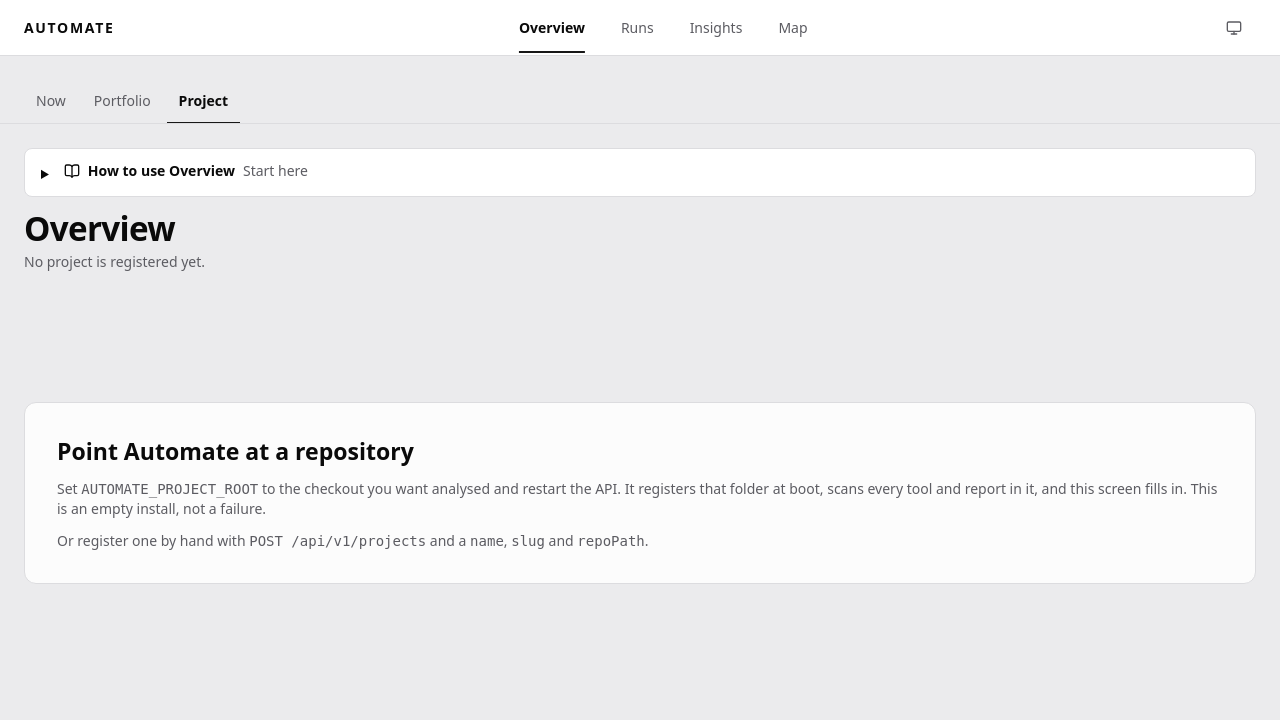
Test case: router › navigates from the dashboard to the runs list in one click
Expected: the heading "Overview" is shown, top-left (24, 206), bottom-right (175, 251)
Step 1. Click the link "Runs" → (637, 27), box top-left (621, 18), bottom-right (654, 36)
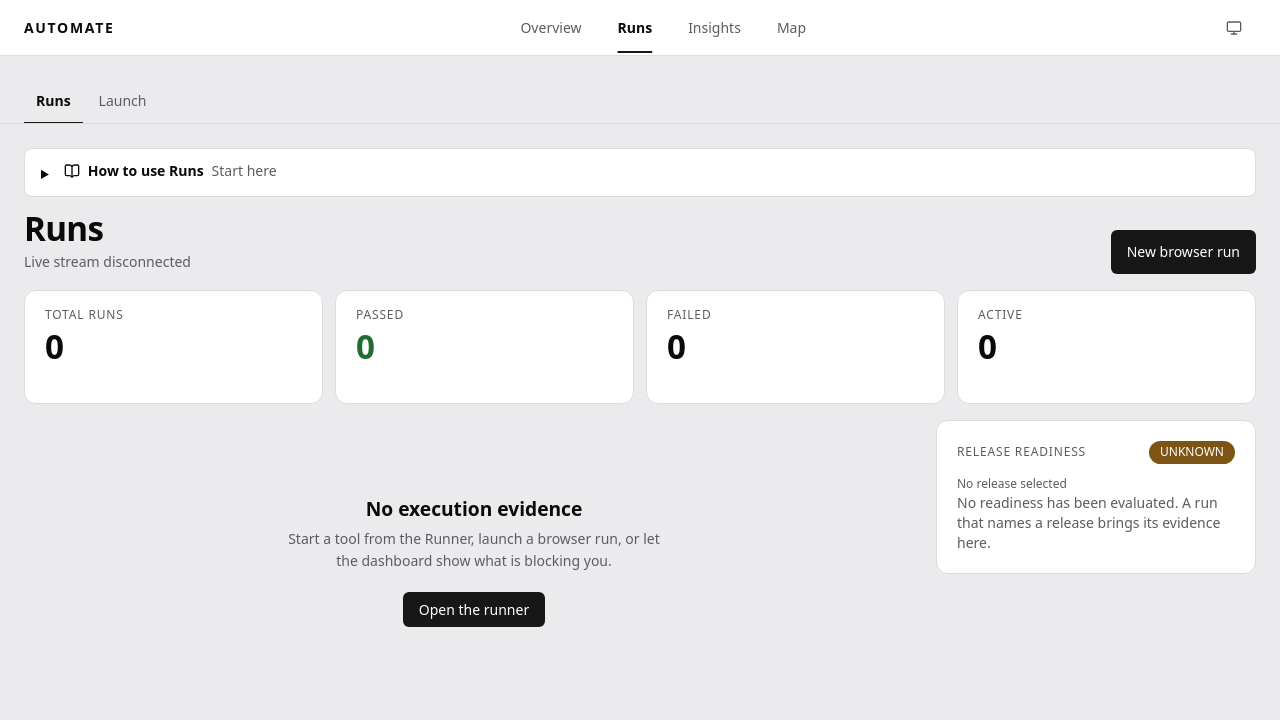
Expected: the element with test id "runs-list-page" is shown
Expected: the element with test id "onboarding" is gone
